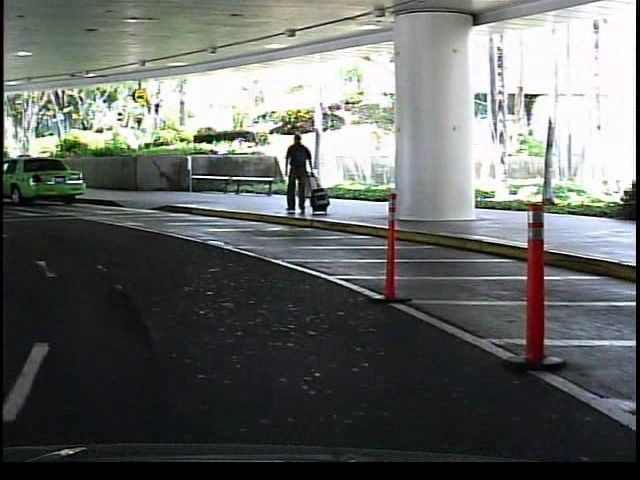person: (281, 127, 319, 220)
